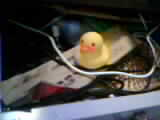duck: (68, 29, 101, 68)
